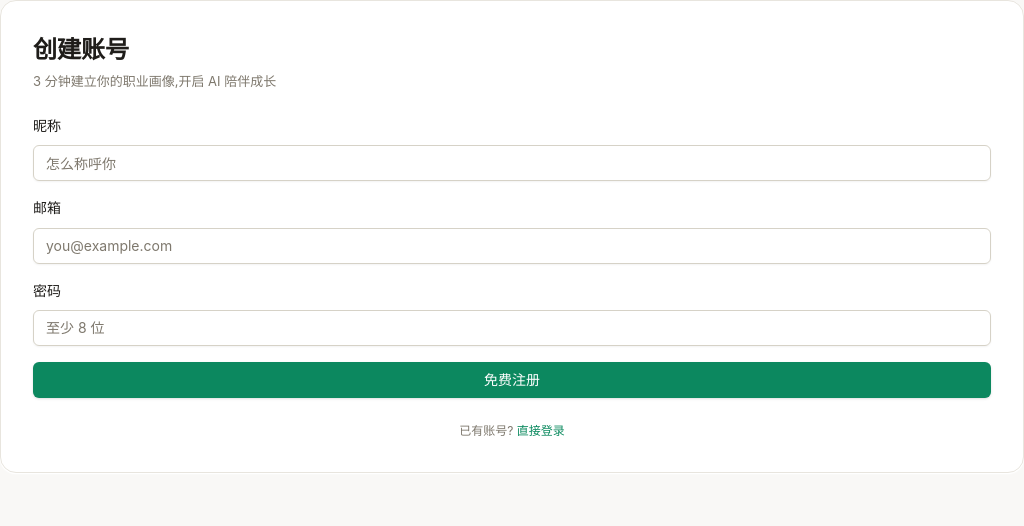
Scenario: RegisterForm › 邮箱重复(CONFLICT):显示「该邮箱已注册」
Type "小明" into the field labelled "昵称" at (512, 163), box [33, 145, 991, 181]
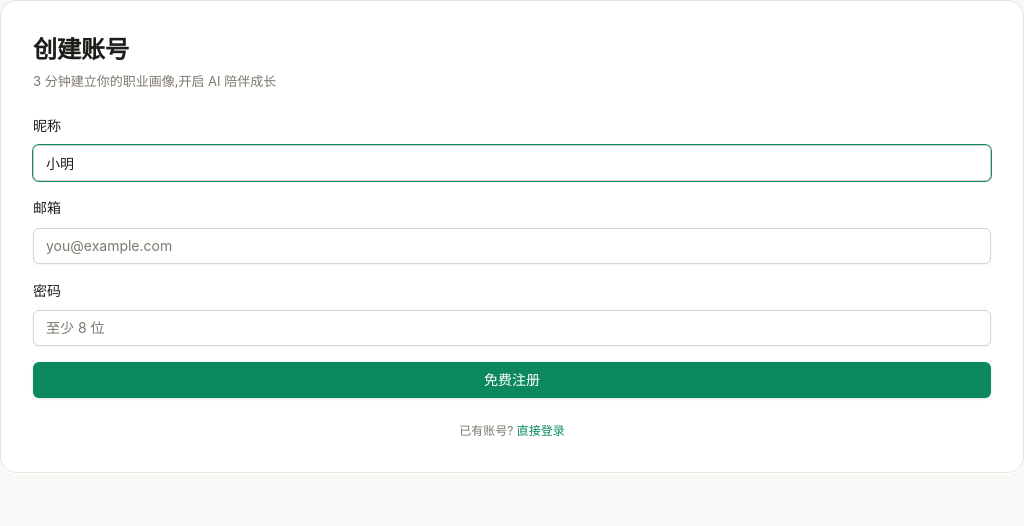
Type "dup@example.com" into the field labelled "邮箱" at (512, 246), box [33, 228, 991, 264]
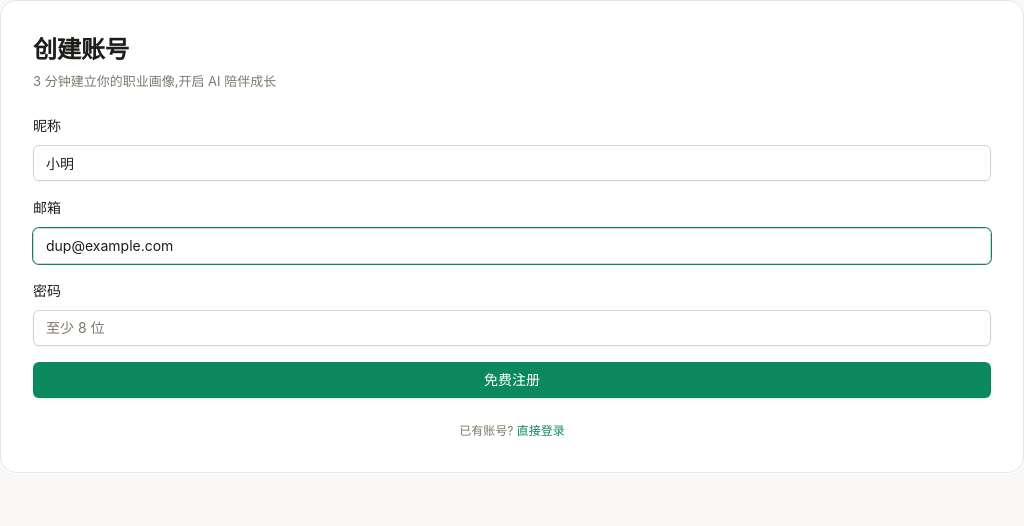
Type "password123" into the password field labelled "密码" at (512, 328), box [33, 310, 991, 346]
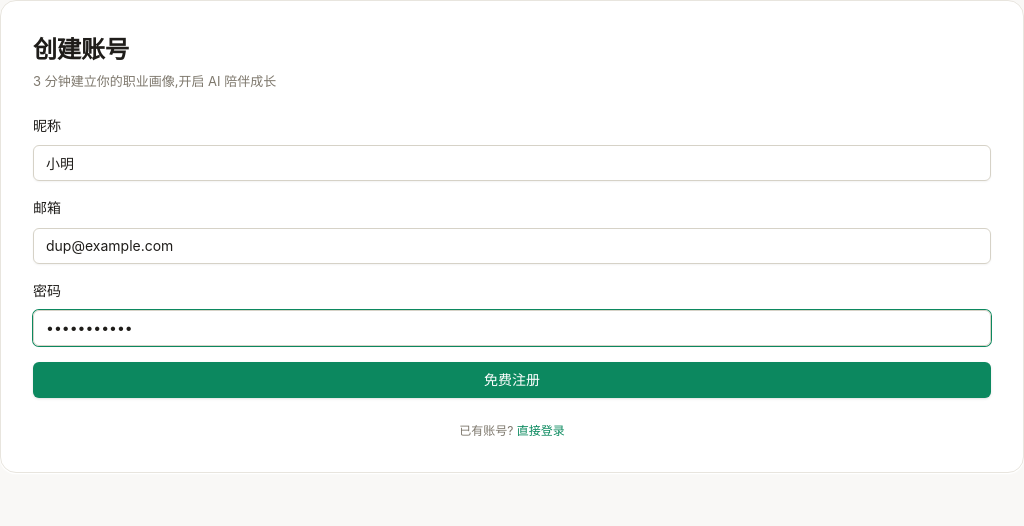
Click the button "免费注册" at (512, 380), box [33, 362, 991, 398]
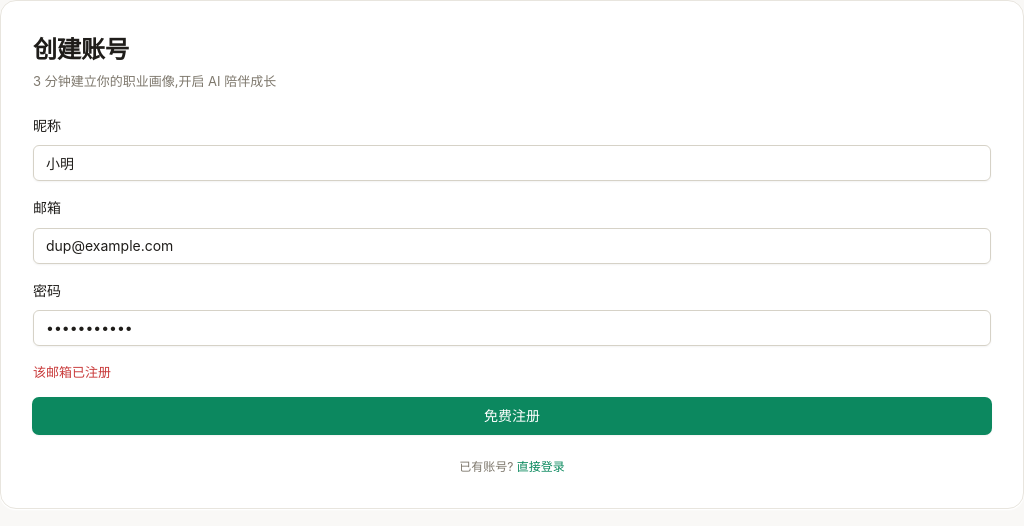
Expected: the message reads "该邮箱已注册", [33, 364, 111, 380]
